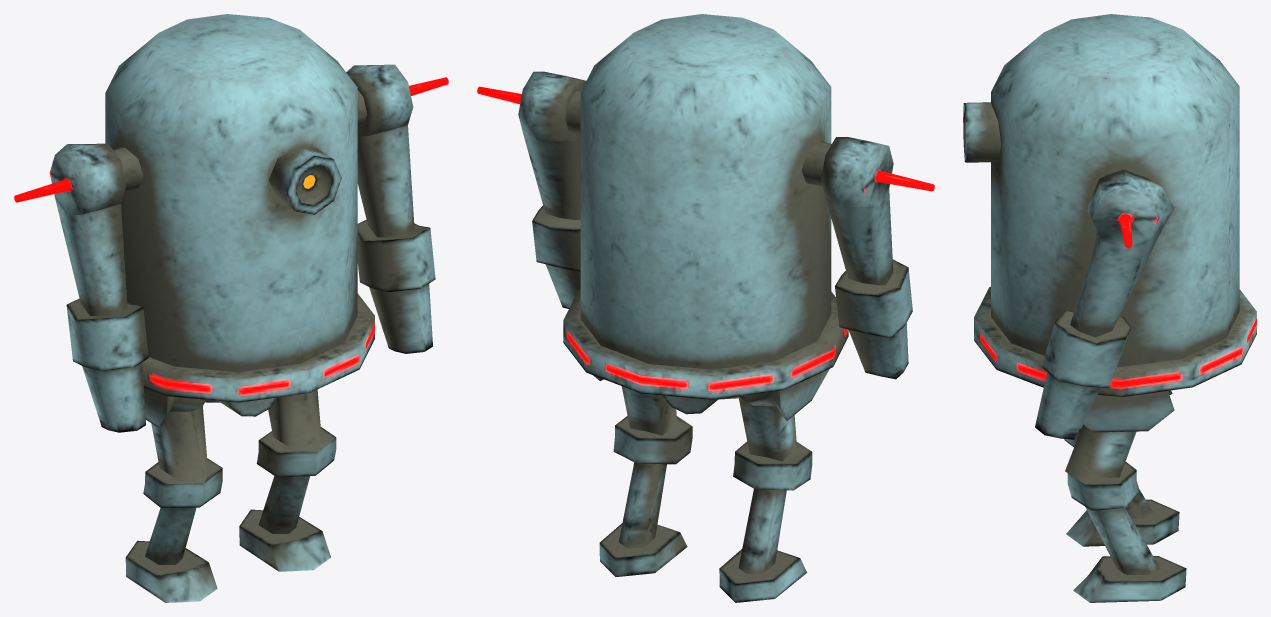
Rendered from Robot.fbx.
The picture shows the model from 3 angles, left to right: view 1: azimuth 30°, elevation 25°; view 2: azimuth 150°, elevation 25°; view 3: azimuth 270°, elevation 25°; orthographic projection.
Parts seen in each view (by area): view 1: Robot 2; view 2: Robot 2; view 3: Robot 2.
Part boxes in pixels (x1,y1,x2,y2): Robot 2: (14, 14, 448, 602); Robot 2: (477, 14, 934, 602); Robot 2: (963, 14, 1256, 602).
Bounding box in the file's own units: 218 × 244 × 127.
